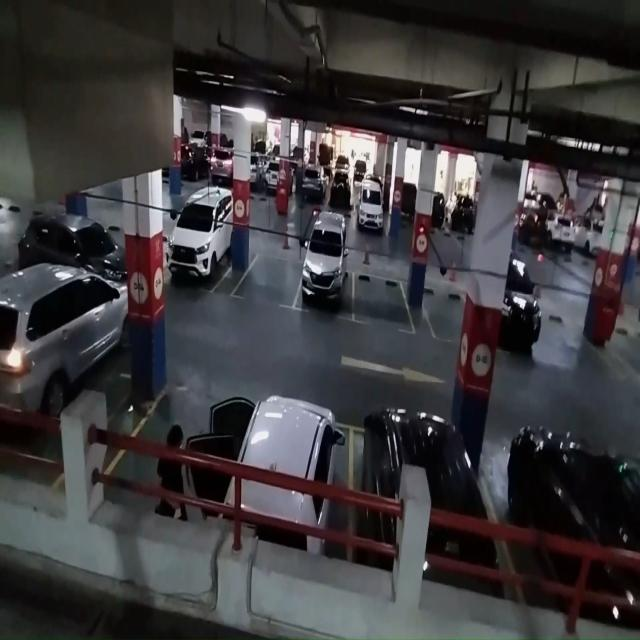empty: (108, 378, 233, 528), (230, 252, 301, 311), (352, 271, 415, 335)
occupied: (348, 412, 496, 589), (224, 392, 354, 564), (164, 193, 232, 294), (295, 233, 355, 324)
